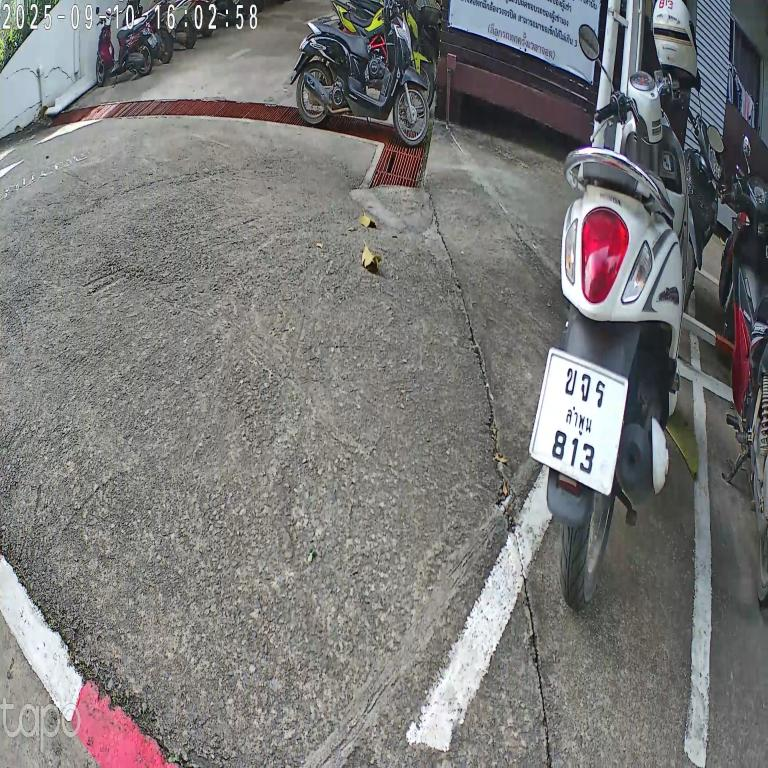license plate: (526, 333, 633, 510)
